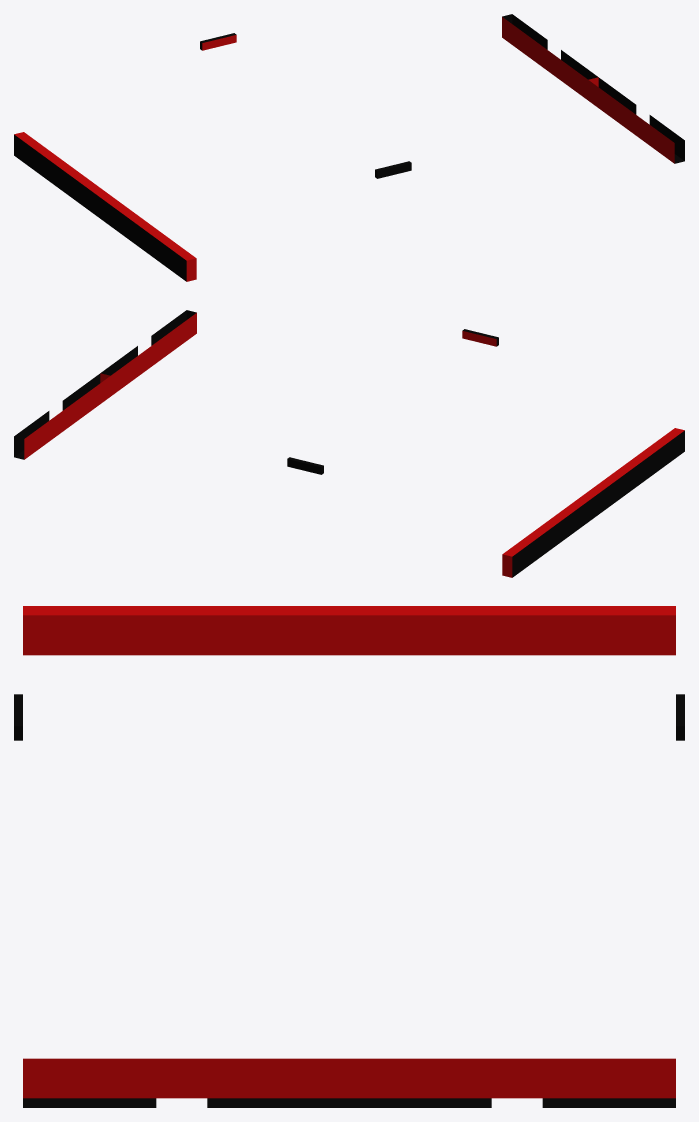
File: main_car_bumper_handle.obj
3 views of the same model, one above another, from view 1: azimuth 30°, elevation 25°; view 2: azimuth 150°, elevation 25°; view 3: azimuth 270°, elevation 25° (orthographic). The views are drawn at different scales.
Visible parts, largest first — view 1: Cube.226_Cube.009; view 2: Cube.226_Cube.009; view 3: Cube.226_Cube.009.
Part boxes in pixels (x1,y1,x2,y2): Cube.226_Cube.009: (14,14,684,281); Cube.226_Cube.009: (14,310,684,577); Cube.226_Cube.009: (14,606,684,1107).
Size of the model in its own units: 4.15 by 0.536 by 2.56.
